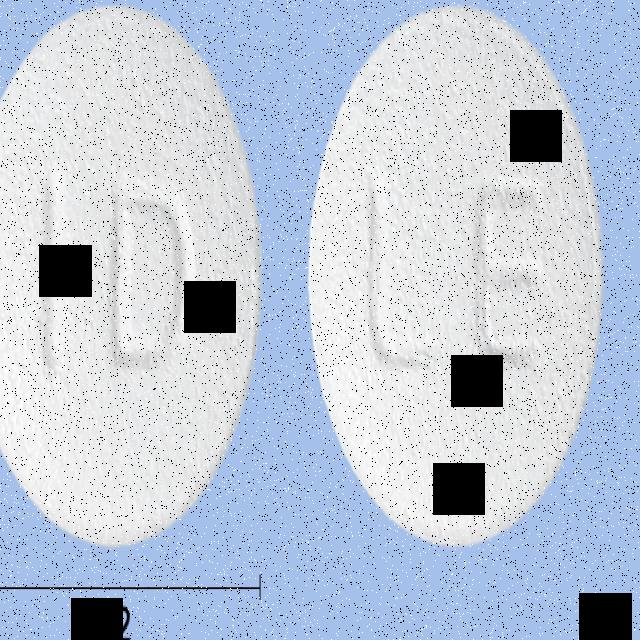Levofexin - 250mg: (310, 3, 603, 550), (0, 4, 260, 547)
